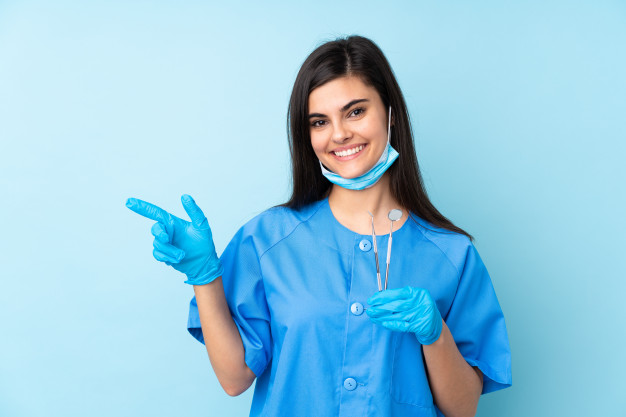mask_weared_incorrect: (305, 74, 400, 195)
